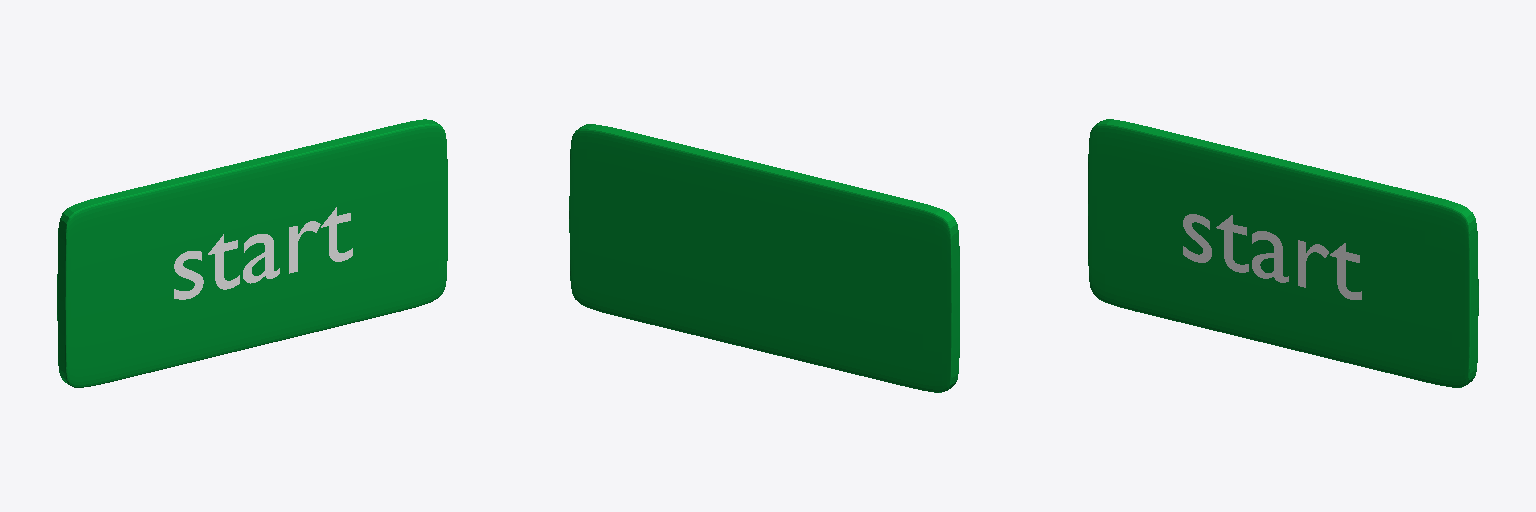
Rendered from start.obj.
3 views of the same model, side by side, from view 1: azimuth 30°, elevation 25°; view 2: azimuth 150°, elevation 25°; view 3: azimuth 330°, elevation 25° (orthographic).
Visible parts, largest first — view 1: Cube, Text; view 2: Cube; view 3: Cube, Text.
Part boxes in pixels (x1,y1,x2,y2): Cube: (57,119,447,387); Text: (174,207,352,299); Cube: (569,124,959,392); Cube: (1088,119,1478,387); Text: (1183,214,1361,299).
Bounding box in the file's own units: 2.55 × 1.16 × 0.1757.